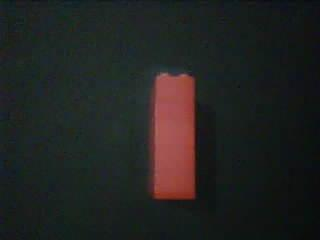lego: (146, 71, 197, 202)
